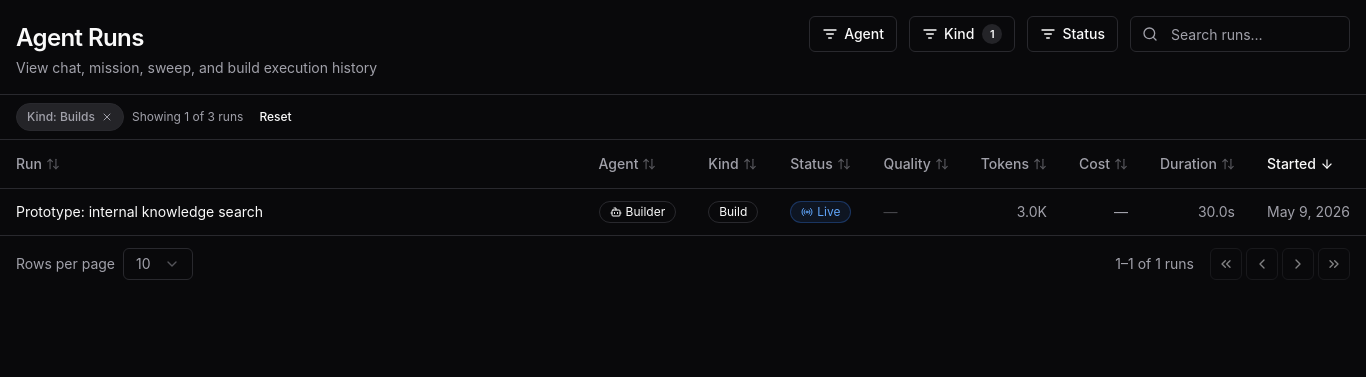
Test case: RunsTable hidden kind facet + chip › clears both search and the hidden kind facet via the empty-state "Clear filters" action
Type "no-such-mission-text-anywhere" into the search field with test id "runs-search-input" at (1240,34), box [1130, 16, 1350, 52]
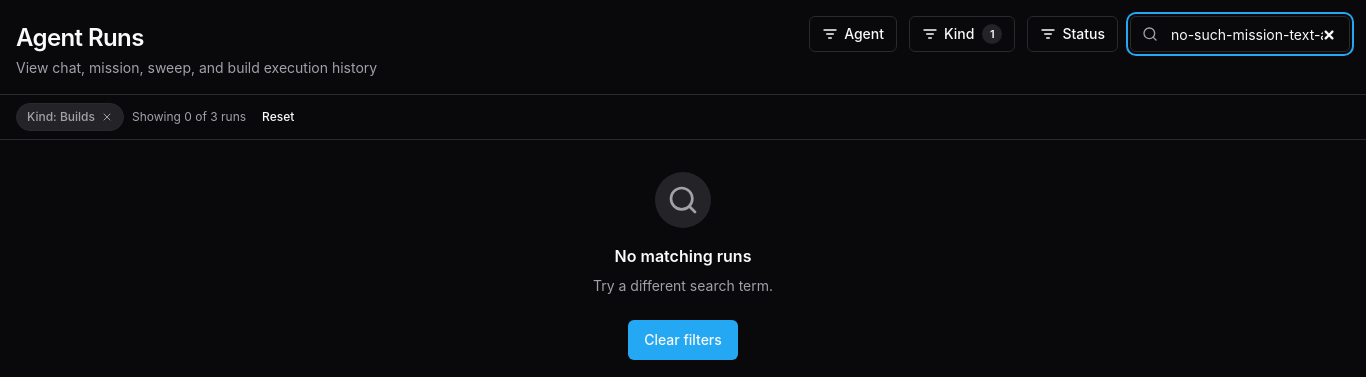
Expected: the heading "No matching runs" is shown, [615, 244, 752, 268]
Click the button "Clear filters" at (683,340), box [628, 320, 738, 360]
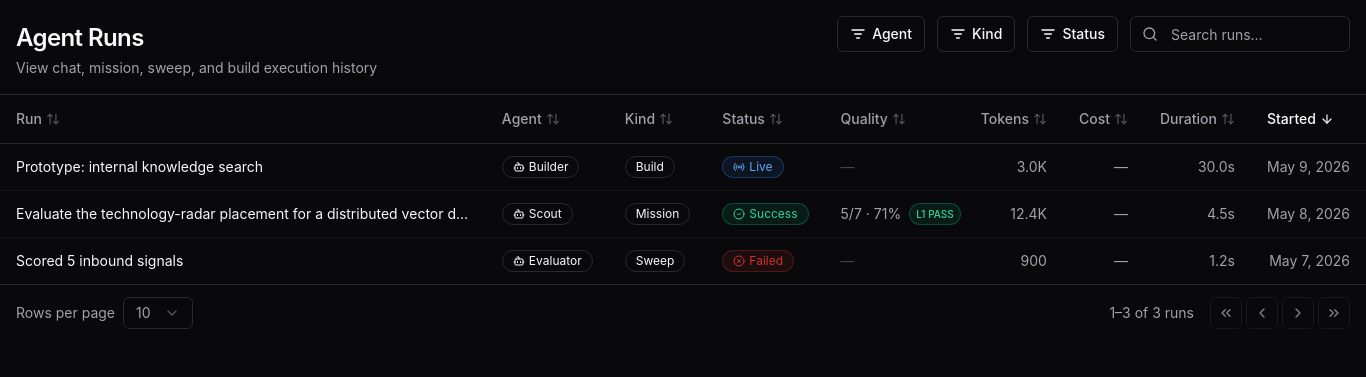
Expected: the button with test id "runs-filter-chip-kinds-build" is gone
Expected: the row with test id "run-row-run-mission-1" is shown, [0, 190, 1365, 237]
Expected: the row with test id "run-row-run-sweep-1" is shown, [0, 237, 1365, 284]
